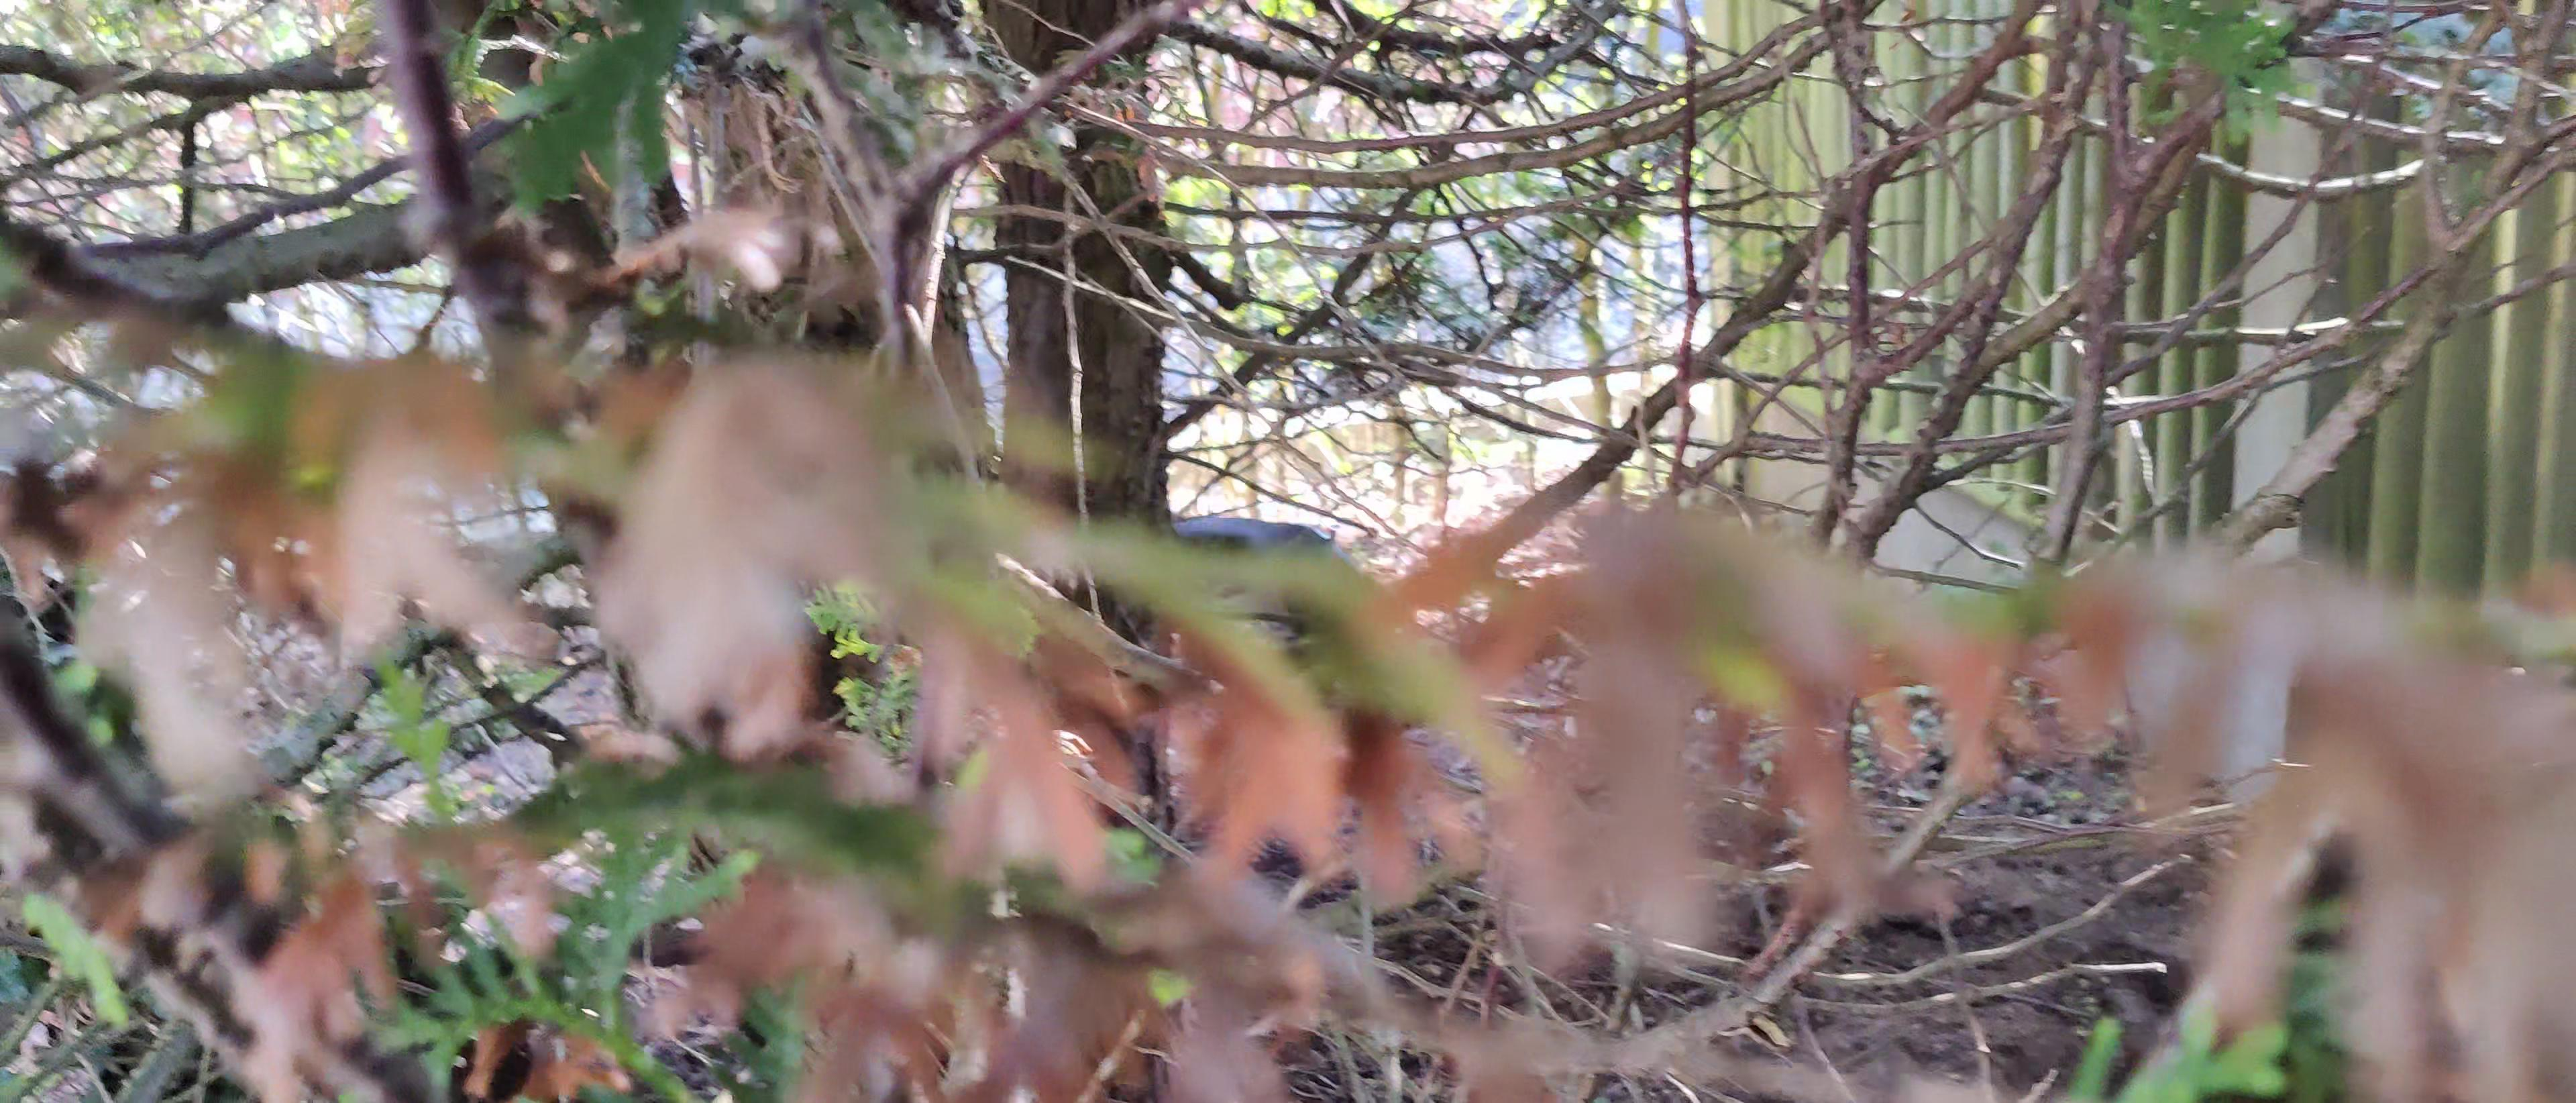Dog: (1142, 496, 1380, 662)
